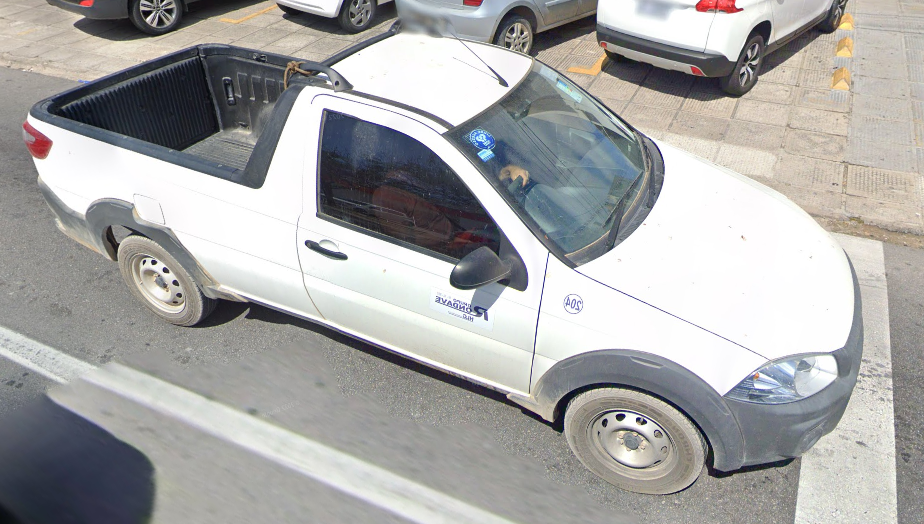car: (18, 26, 867, 486)
